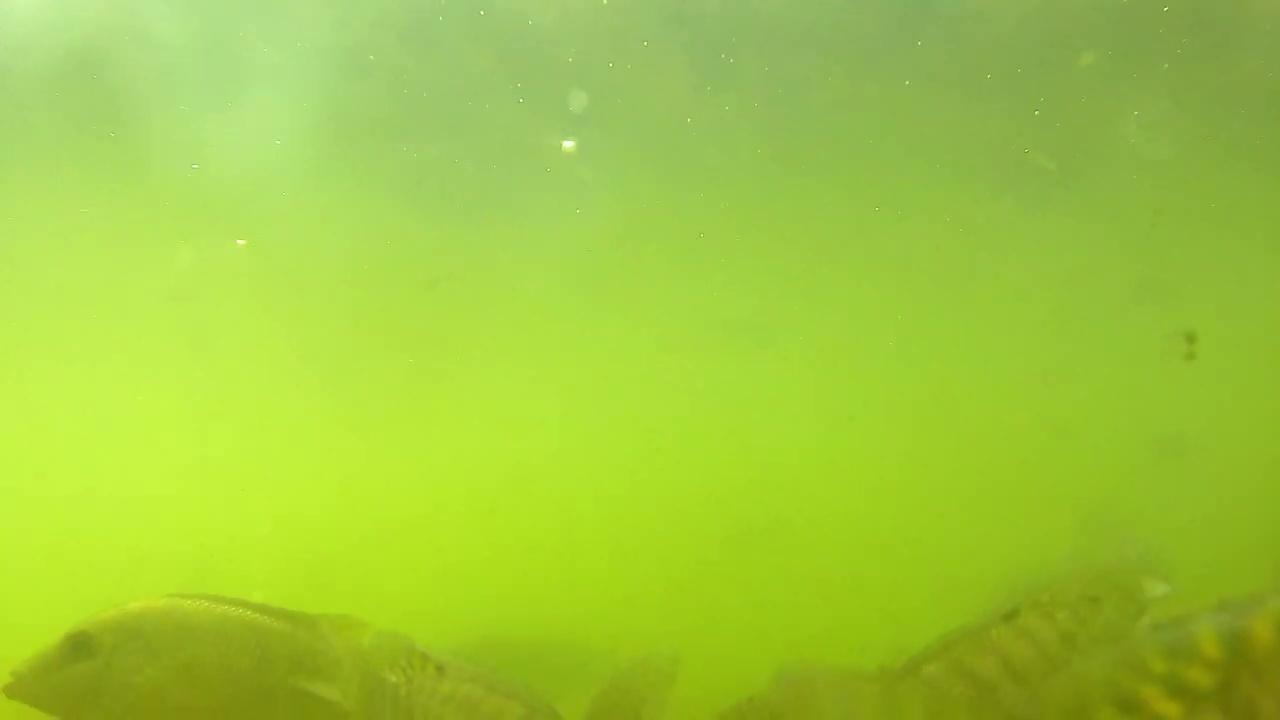Tilapia: (1, 570, 422, 720)
